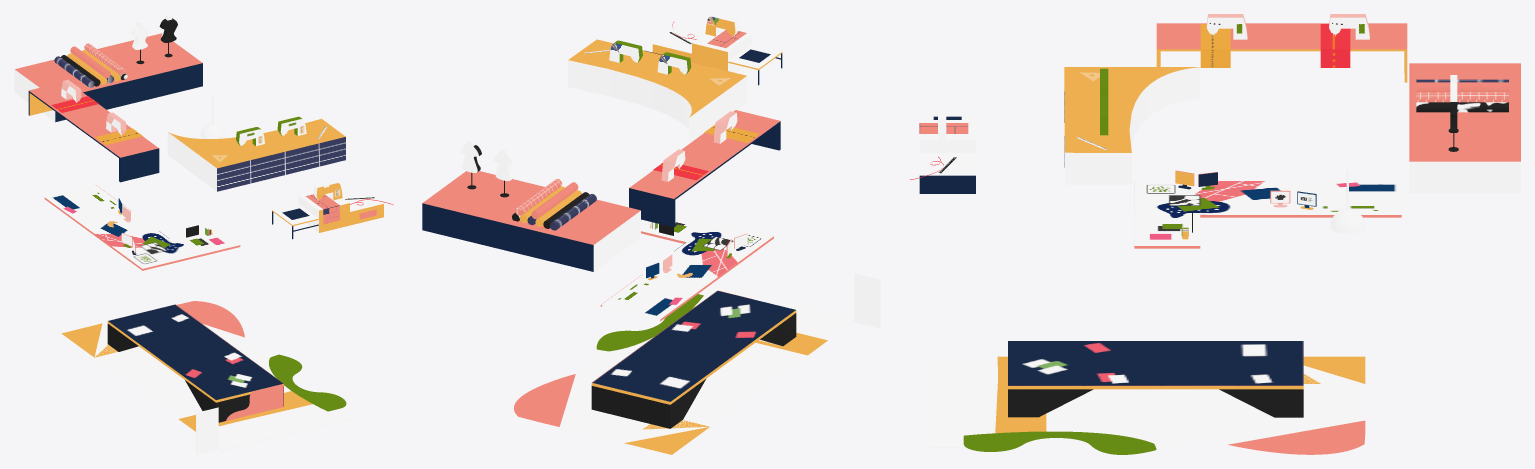
The model's file is 服装大楼 1.fbx.
3 renders of one model, left to right at view 1: azimuth 30°, elevation 25°; view 2: azimuth 150°, elevation 25°; view 3: azimuth 270°, elevation 25°, orthographic. The views are drawn at different scales.
Visible parts, largest first — view 1: 挤压_5, 桌子, 挤压_1_2, 展示台, L桌子, 左侧桌子, 立方体_1, 操作台, 挤压_6, 立方体, 操作台_小桌_1, 布料 (+10 smaller); view 2: 挤压_5, 桌子, 展示台, 挤压_1_2, L桌子, 左侧桌子, 操作台, 立方体_1, 立方体, 操作台_小桌_1, 缝纫机, 缝纫机_2 (+8 smaller); view 3: 挤压_5, 桌子, 展示台, L桌子, 挤压_1_2, 左侧桌子, 操作台, 立方体_1, 红围巾, 黄围巾, 黑, 红 (+4 smaller).
Part boxes in pixels (x1,y1,x2,y2): 挤压_5: [61, 301, 346, 437]; 桌子: [107, 304, 283, 422]; 挤压_1_2: [167, 118, 345, 191]; 展示台: [14, 33, 202, 122]; L桌子: [44, 184, 240, 270]; 左侧桌子: [28, 82, 159, 182]; 立方体_1: [218, 407, 357, 450]; 操作台: [298, 188, 383, 232]; 挤压_6: [226, 384, 283, 420]; 立方体: [196, 407, 218, 454]; 操作台_小桌_1: [272, 203, 318, 226]; 布料: [305, 194, 339, 224]; 挤压_5: [513, 294, 841, 454]; 桌子: [591, 290, 796, 428]; 展示台: [422, 171, 640, 271]; 挤压_1_2: [568, 39, 747, 143]; L桌子: [600, 212, 773, 321]; 左侧桌子: [629, 110, 780, 227]; 操作台: [652, 26, 751, 72]; 立方体_1: [698, 283, 854, 330]; 立方体: [854, 273, 880, 328]; 操作台_小桌_1: [728, 44, 782, 70]; 缝纫机: [705, 14, 738, 37]; 缝纫机_2: [609, 40, 642, 63]; 挤压_5: [963, 356, 1365, 454]; 桌子: [1008, 341, 1303, 417]; 展示台: [1409, 63, 1520, 193]; L桌子: [1134, 181, 1401, 248]; 挤压_1_2: [1064, 67, 1199, 184]; 左侧桌子: [1156, 23, 1407, 82]; 操作台: [919, 120, 975, 193]; 立方体_1: [928, 356, 965, 448]; 红围巾: [1320, 24, 1350, 67]; 黄围巾: [1200, 24, 1230, 67]; 黑: [1416, 102, 1508, 112]; 红: [1416, 92, 1508, 102].
Size of the model in its own units: 673 by 851 by 1324.
